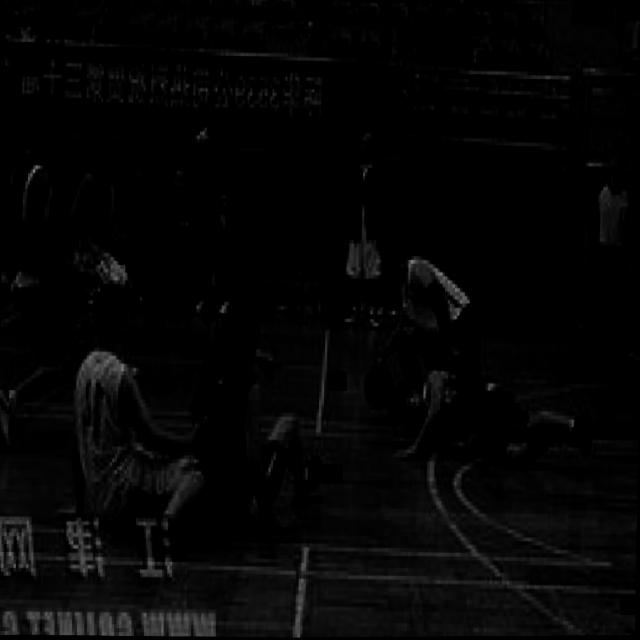Fall-Detected: (382, 325, 610, 473)
